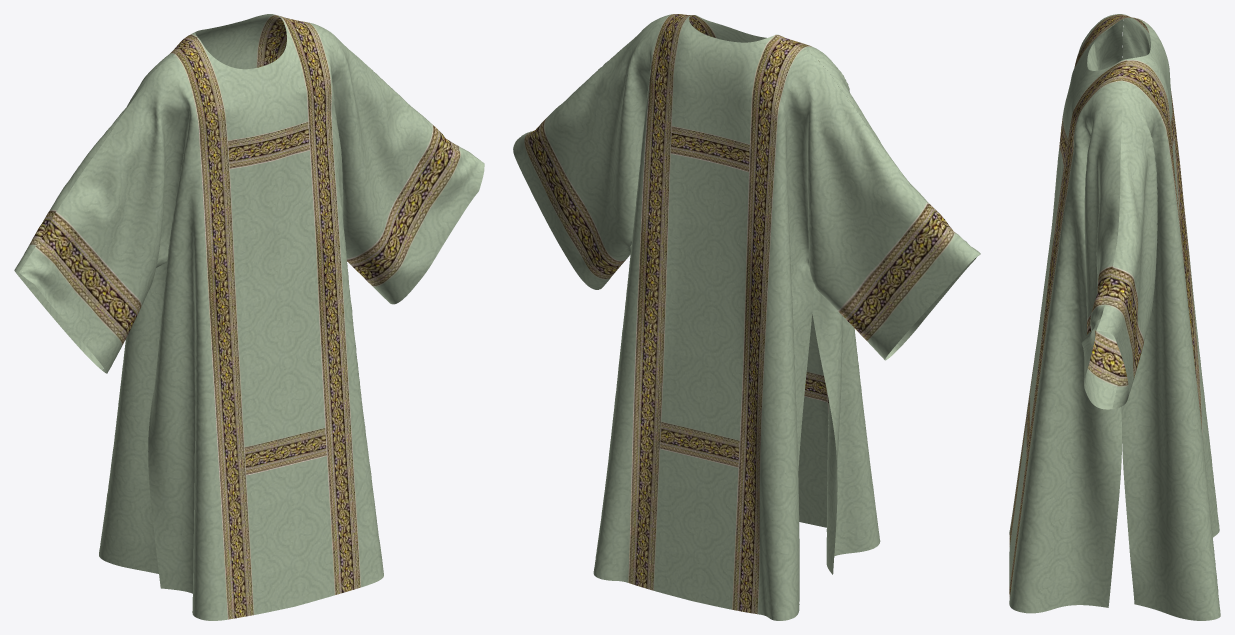
File: Dalmatic.gltf
3 renders of one model, left to right at view 1: azimuth 30°, elevation 25°; view 2: azimuth 150°, elevation 25°; view 3: azimuth 270°, elevation 25°, orthographic.
Visible parts, largest first — view 1: Dalmatic_map, Dalmatic_map_1.001; view 2: Dalmatic_map_1.001, Dalmatic_map; view 3: Dalmatic_map, Dalmatic_map_1.001.
Part boxes in pixels (x1,y1,x2,y2): Dalmatic_map: [19, 18, 484, 620]; Dalmatic_map_1.001: [14, 14, 480, 573]; Dalmatic_map_1.001: [513, 15, 979, 620]; Dalmatic_map: [600, 14, 980, 574]; Dalmatic_map: [1009, 14, 1127, 613]; Dalmatic_map_1.001: [1096, 14, 1220, 620].
Size of what is drawn, in the model's own units: 12.14 by 13.6 by 4.81.
